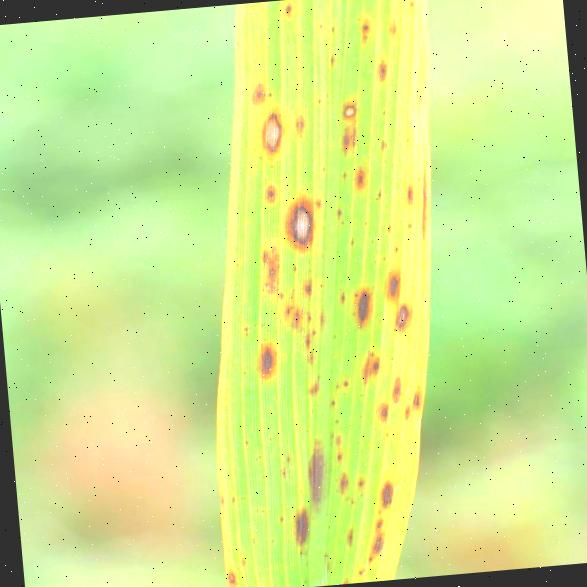Brown_Spot: (289, 434, 341, 516), (282, 190, 323, 246), (340, 274, 379, 326), (254, 106, 290, 160), (357, 511, 390, 568), (280, 509, 320, 554), (352, 339, 392, 384), (248, 333, 282, 384), (372, 467, 410, 512), (378, 258, 410, 304), (342, 157, 381, 193), (413, 162, 428, 242), (240, 72, 276, 104), (390, 296, 416, 334), (345, 12, 370, 50), (329, 99, 364, 122), (383, 368, 405, 404), (393, 176, 415, 211), (406, 380, 426, 418), (369, 396, 395, 423), (369, 55, 389, 82), (273, 0, 299, 19), (382, 15, 403, 38), (218, 569, 241, 587), (407, 0, 415, 8)
